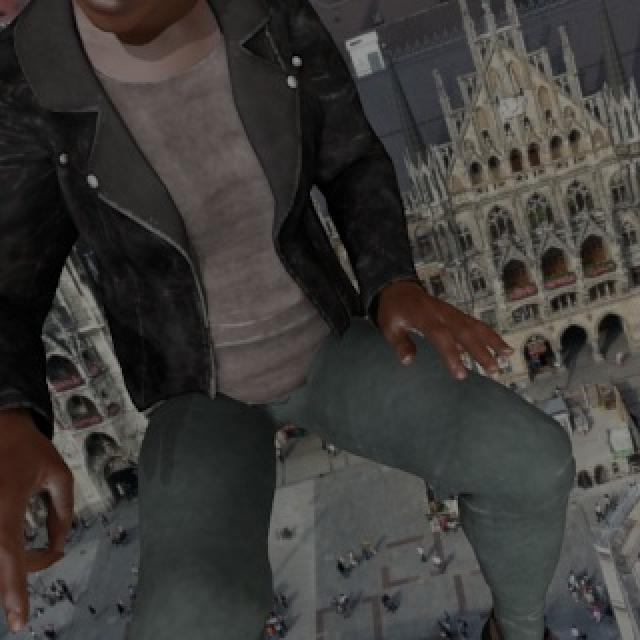not-gloved: (0, 414, 108, 640), (383, 266, 520, 395)
